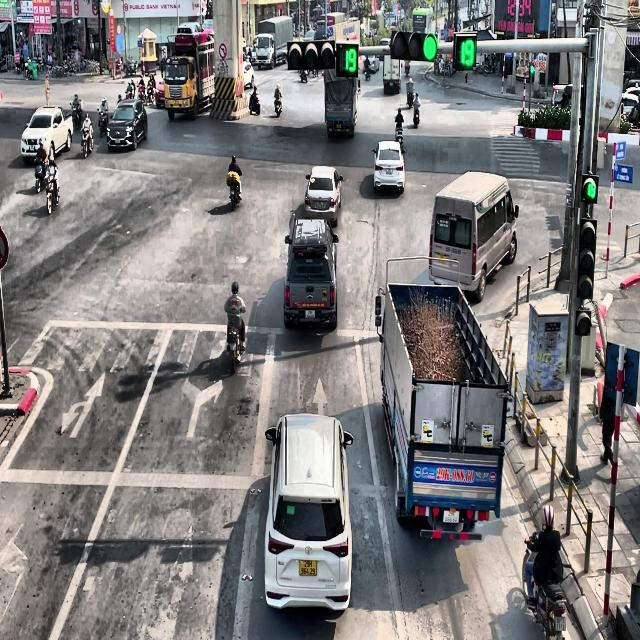lisence_plate: (413, 462, 498, 487), (298, 558, 317, 576), (442, 508, 460, 523), (444, 245, 462, 255), (304, 310, 315, 320), (437, 254, 447, 264), (316, 201, 325, 210), (385, 167, 393, 176), (336, 120, 342, 130), (389, 82, 393, 86)
